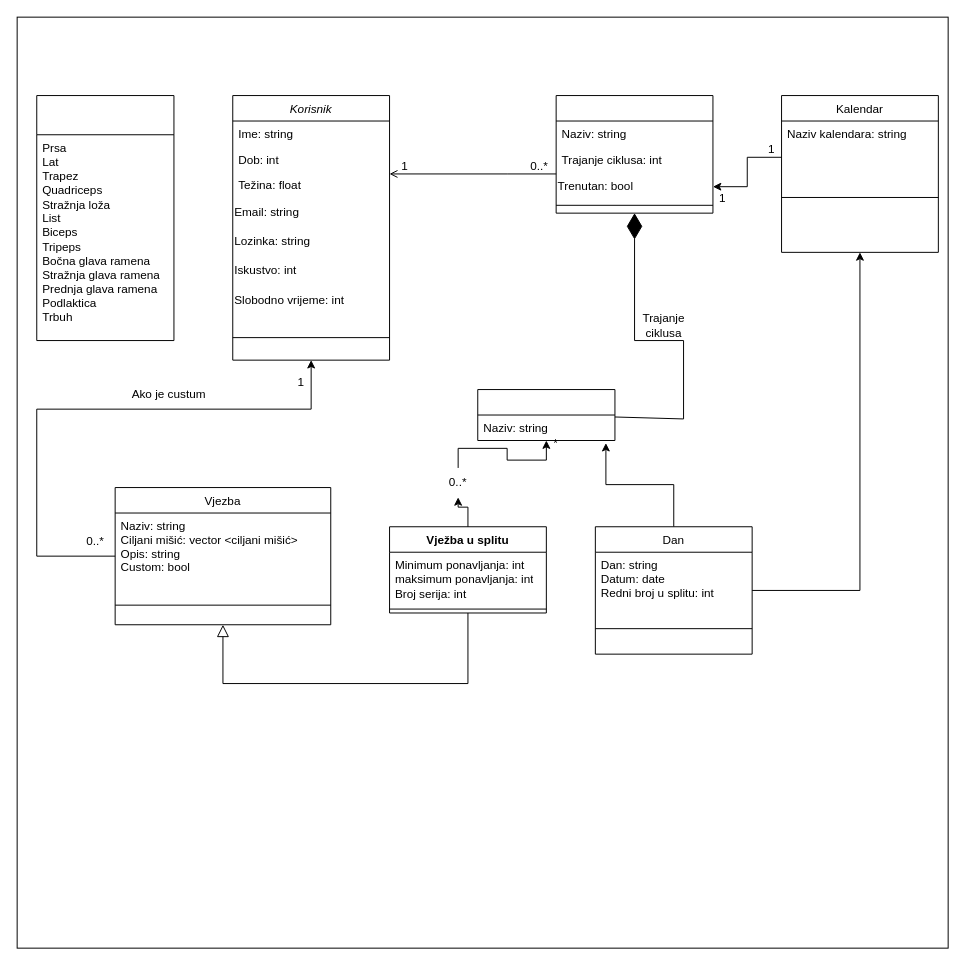
The diagram is 965 pixels wide and 965 high, and some of its shapes have lost their labels. Here are the shapes that lost their labels. From the top down, the box of each, then its label:
(555, 95, 713, 213): Split
(36, 95, 174, 341): << enumeracija >> ciljani mišić
(477, 389, 615, 441): Dan u splitu
